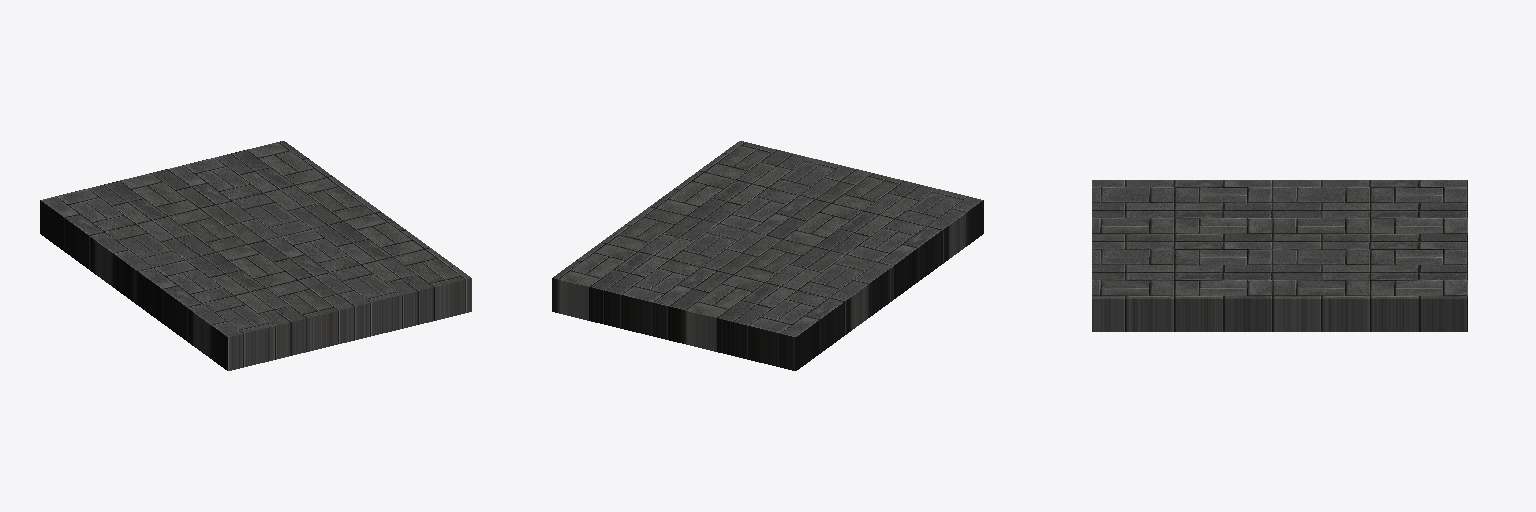
3 views of the same model, side by side, from view 1: azimuth 30°, elevation 25°; view 2: azimuth 150°, elevation 25°; view 3: azimuth 270°, elevation 25° (orthographic).
Parts seen in each view (by area): view 1: Plane; view 2: Plane; view 3: Plane.
Part boxes in pixels (x1,y1,x2,y2): Plane: (40, 141, 471, 370); Plane: (552, 141, 983, 370); Plane: (1092, 180, 1467, 331).
Bounding box in the file's own units: 30 × 3.98 × 40.
1 materials, 1 textured.